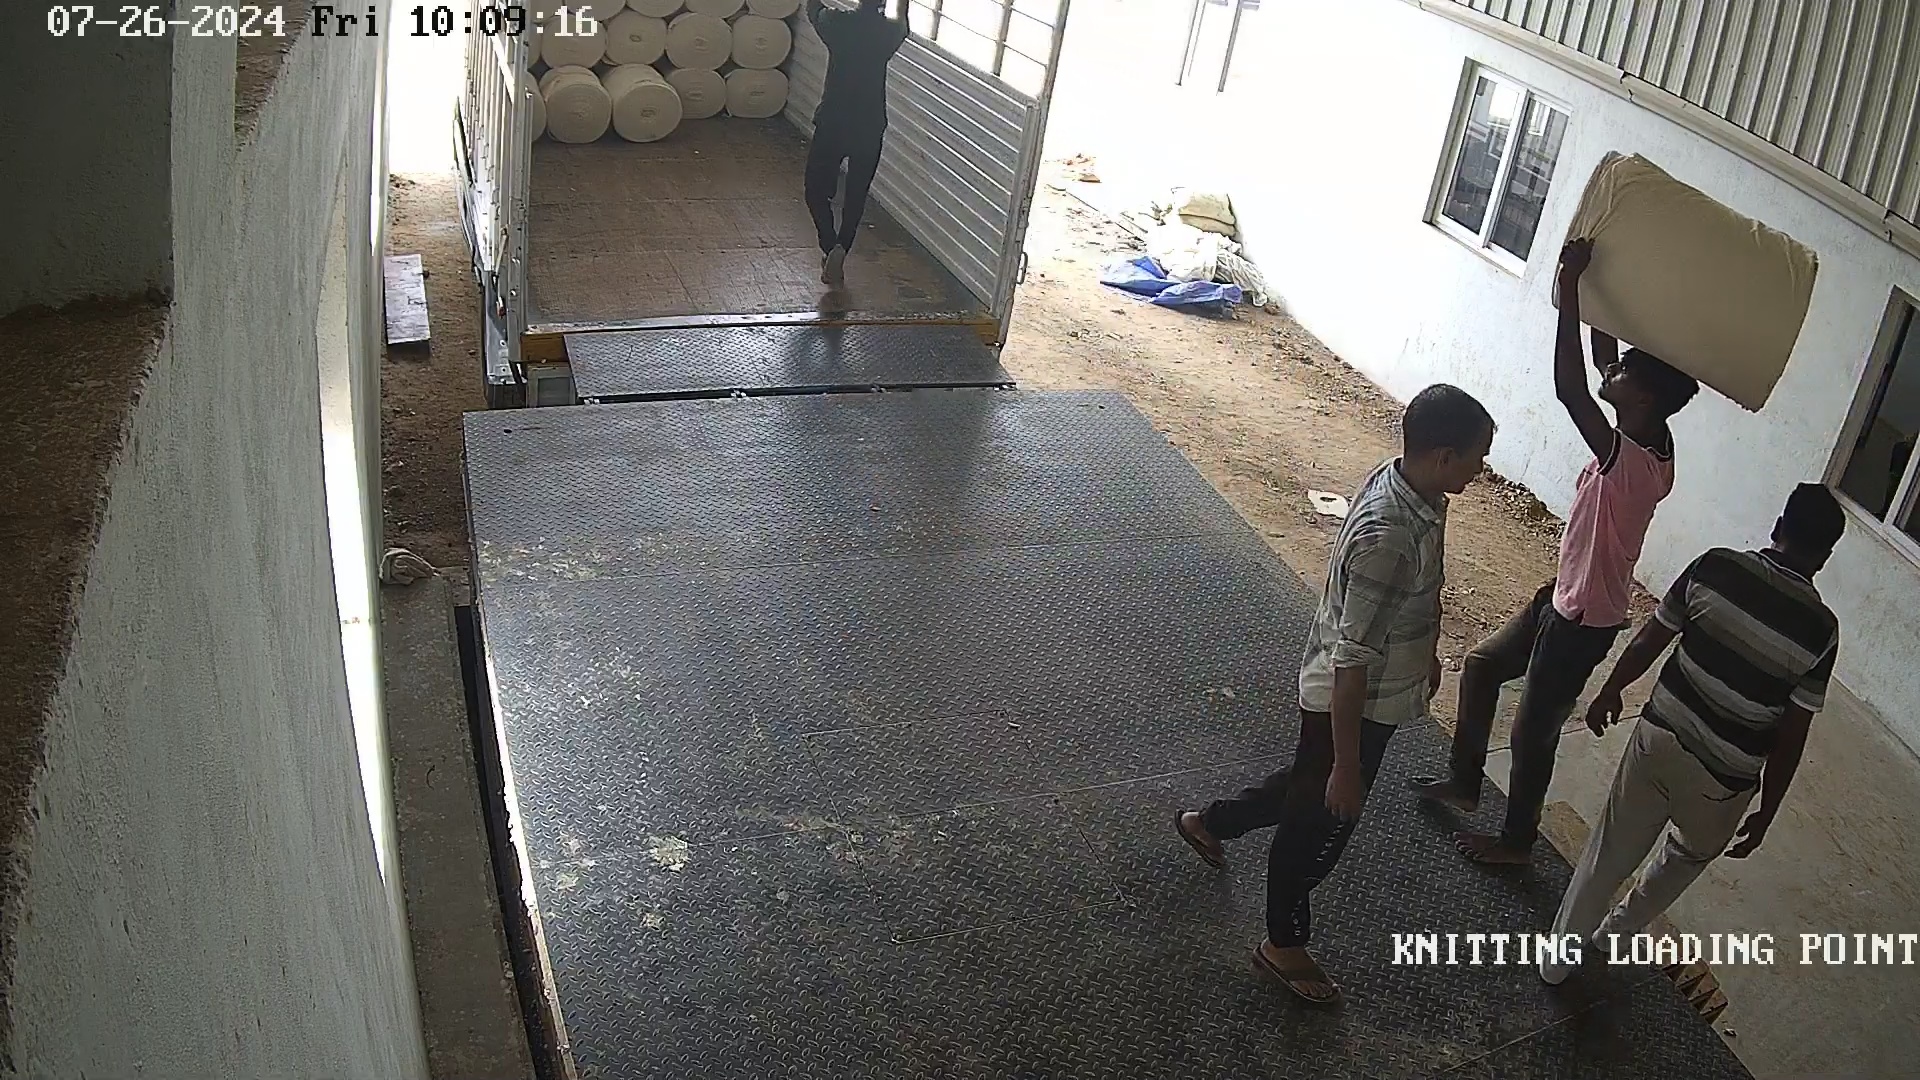bag: (1547, 137, 1826, 417)
